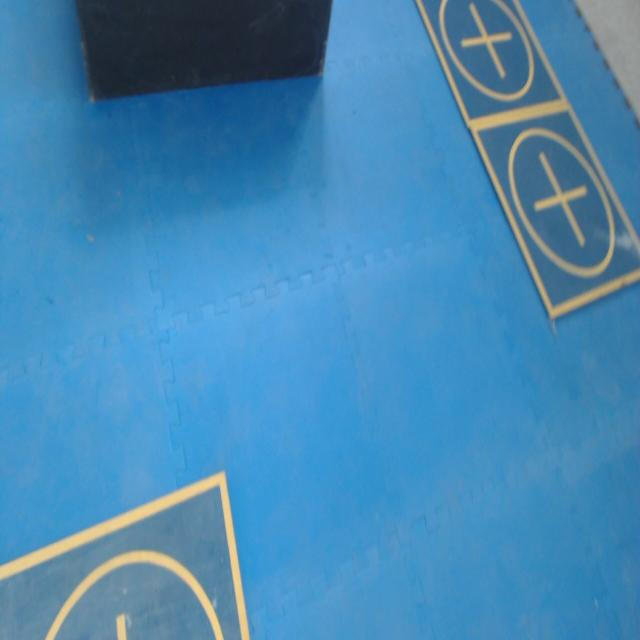base_pouso: (0, 472, 253, 639), (469, 102, 640, 325), (415, 0, 569, 133)
